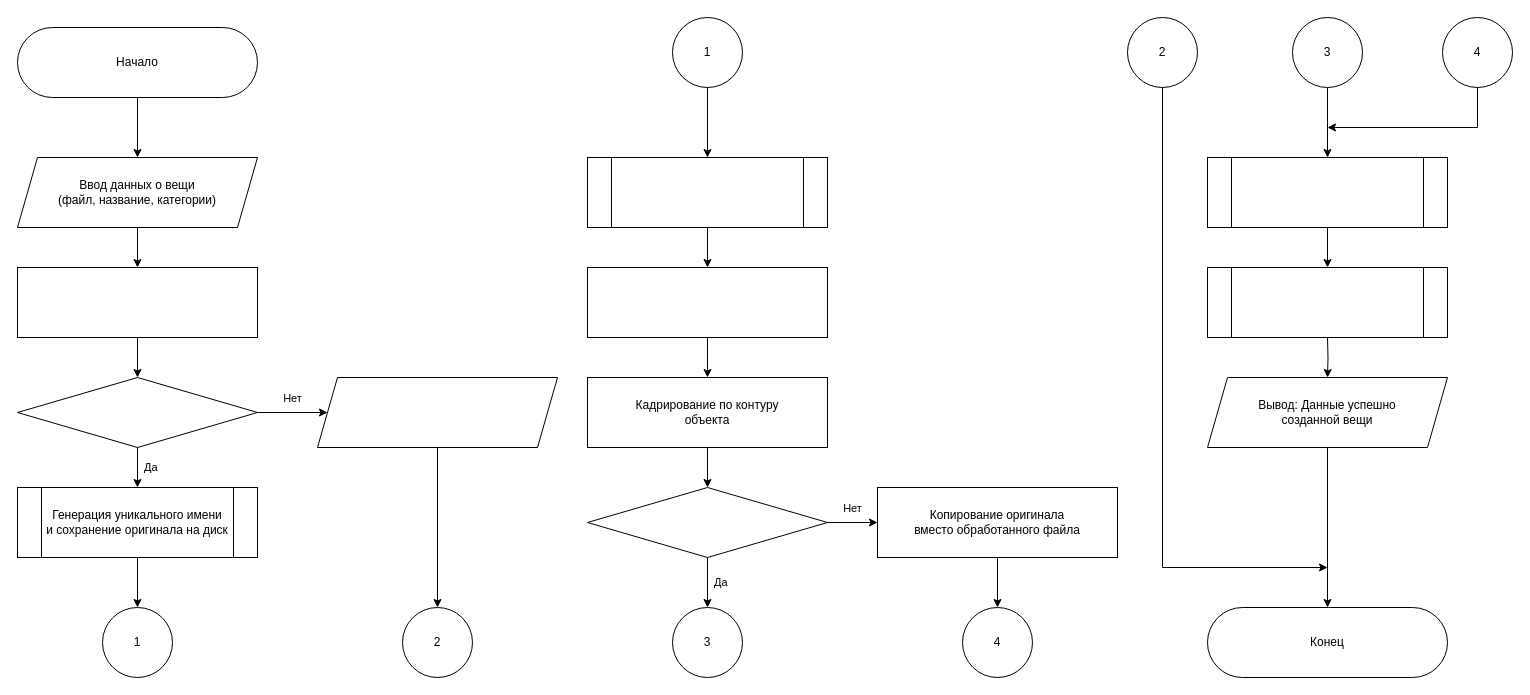
The diagram is 1530 pixels wide and 695 high, and some of its shapes have lost their labels. The box of each missing label's shape, as (x1, y1, x2, y2) in pixels:
Валидация входных данных (наличие фото, названия, проверка связей): (16, 266, 258, 338)
Вывод: Сообщение об ошибке валидации: (316, 376, 558, 448)
Выделение объекта и удаление фона: (586, 266, 828, 338)
Данные корректны?: (16, 376, 258, 448)
Обработка успешна?: (586, 486, 828, 558)
Отправка изображения в сервис Computer Vision: (586, 156, 828, 228)
Сохранение записи о вещи и путей файлов в базу данных: (1206, 266, 1448, 338)
Сохранение обработанного изображения (PNG) на диск: (1206, 156, 1448, 228)
